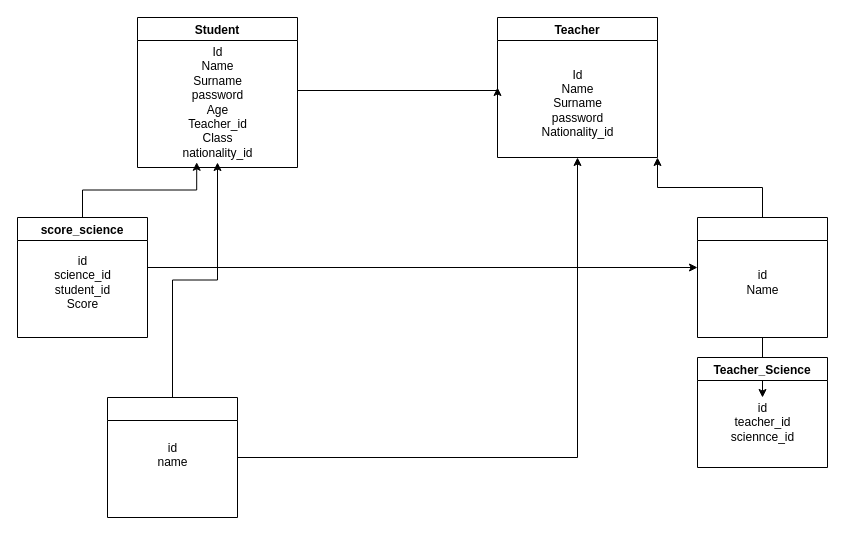
This 845x535 diagram has some shape labels left out. The box of each missing label's shape, as (x1, y1, x2, y2) in pixels:
Country: (106, 396, 238, 518)
Science: (696, 216, 828, 338)
